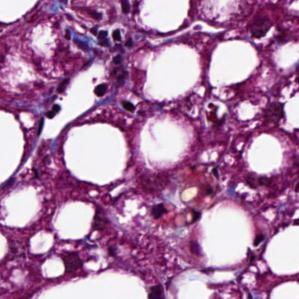inflammation: (63, 20, 133, 53), (145, 201, 204, 231), (237, 173, 272, 203), (201, 102, 234, 130), (114, 94, 146, 115)
